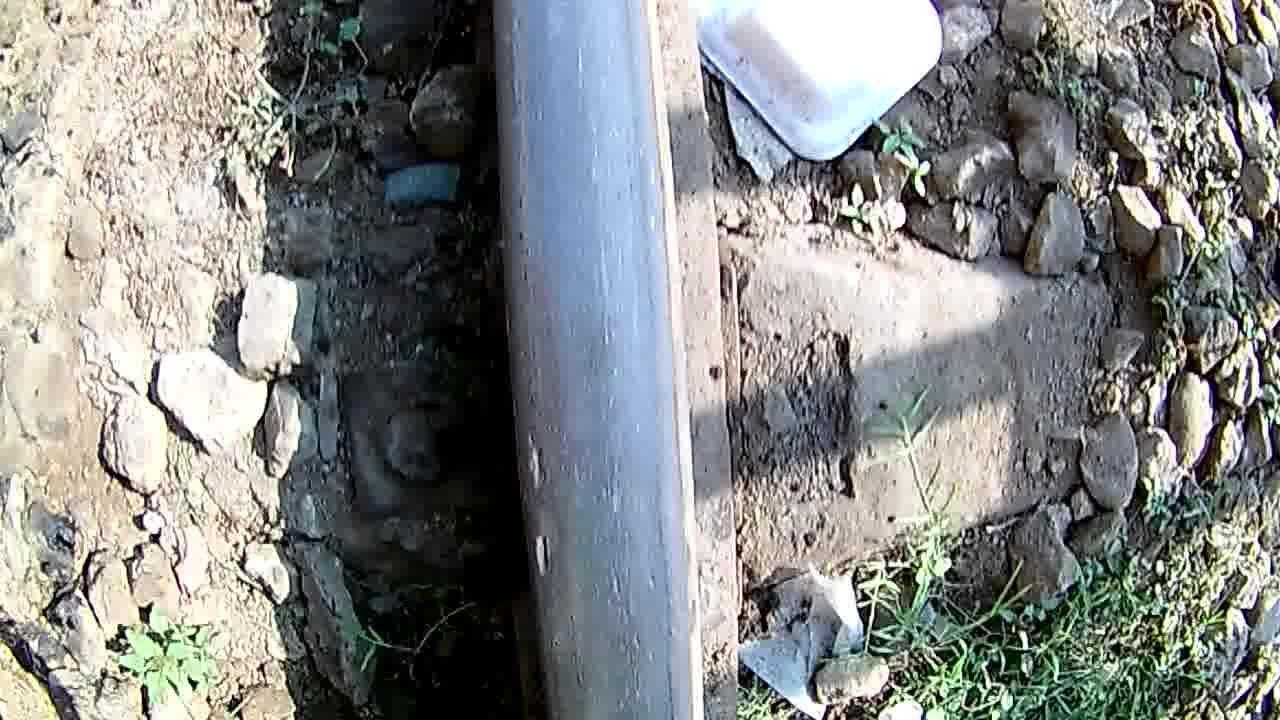crack: (494, 0, 695, 720)
